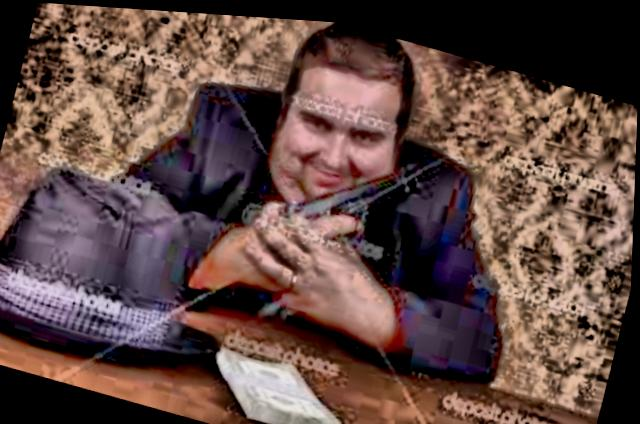pistol: (276, 134, 400, 244)
